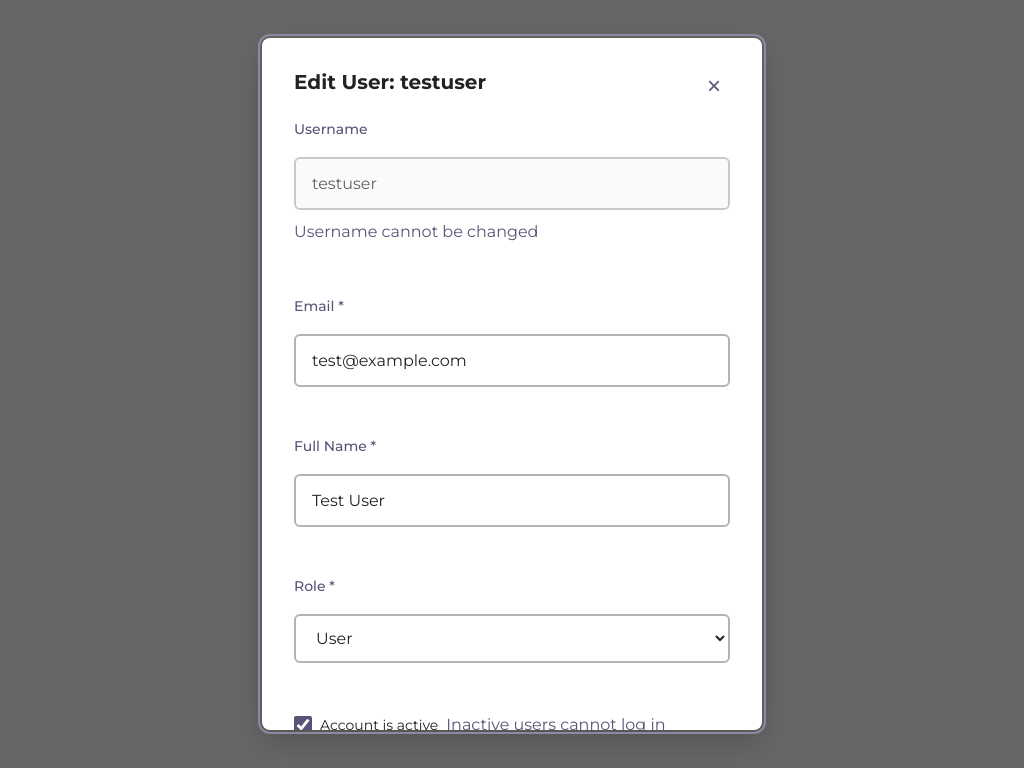
EditUserDialog › User Changes › clears error when user prop changes
// Trigger error
Replace the text in the field labelled "Email *" with "error@example.com" at (512, 360), box 294,334 -> 730,387
(page scrolled)
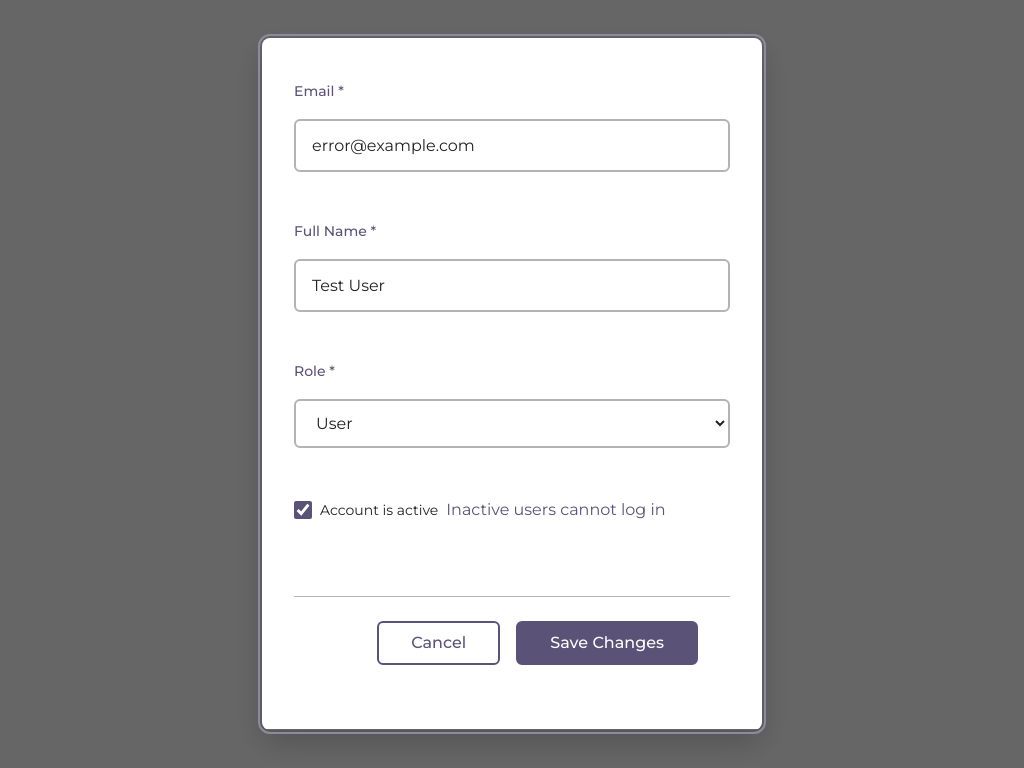
Click the button "Save Changes" at (607, 643), box 516,621 -> 698,665
(page scrolled)
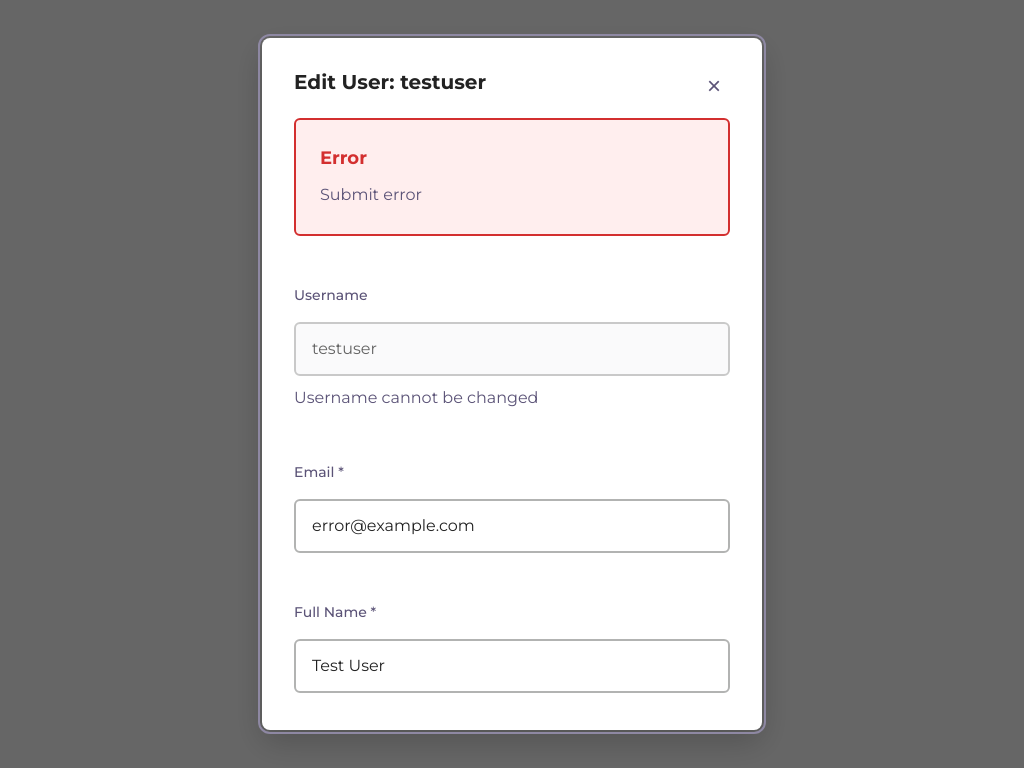
Expected: the text "Submit error" is shown, 320,181 -> 422,210
